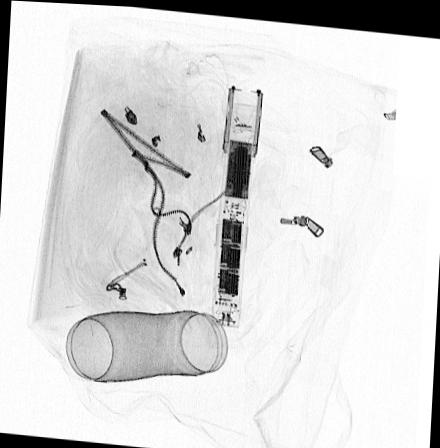Baton: (211, 81, 265, 327)
